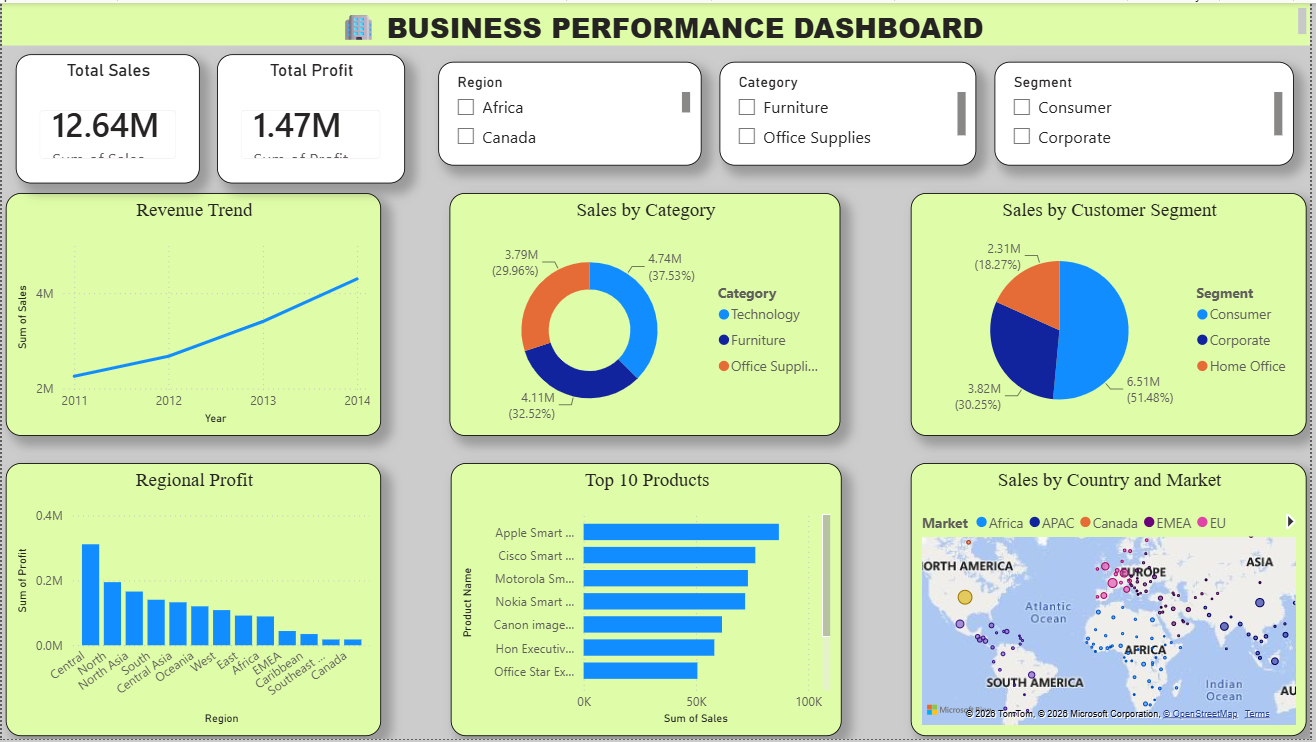

Layout of this report page (visuals, bound fields, positions):
{"tool":"powerbi","page":{"name":"Page 1","canvas":[1280,720],"ordinal":0},"visuals":[{"type":"textbox","box":[0,0,1281.2,41.2],"z":0},{"type":"lineChart","title":"Revenue Trend","fields":{"Category":["Orders.Order Date.Variation.Date Hierarchy.Year","Orders.Order Date.Variation.Date Hierarchy.Quarter","Orders.Order Date.Variation.Date Hierarchy.Month","Orders.Order Date.Variation.Date Hierarchy.Day"],"Y":["Sum(Orders.Sales)"]},"box":[3.8,186.2,367.5,237.5],"z":1000},{"type":"donutChart","title":"Sales by Category","fields":{"Category":["Orders.Category"],"Y":["Sum(Orders.Sales)"]},"box":[437.5,186.2,382.5,237.5],"z":2000},{"type":"clusteredColumnChart","title":"Regional Profit","fields":{"Category":["Orders.Region"],"Y":["Sum(Orders.Profit)"]},"box":[3.8,450,367.5,267.5],"z":3000},{"type":"barChart","title":"Top 10 Products","fields":{"Category":["Orders.Product Name"],"Y":["Sum(Orders.Sales)"]},"box":[438.8,450,382.5,267.5],"z":4000},{"type":"pieChart","title":"Sales by Customer Segment","fields":{"Category":["Orders.Segment"],"Y":["Sum(Orders.Sales)"]},"box":[888.8,186.2,387.5,237.5],"z":5000},{"type":"map","title":"Sales by Country and Market","fields":{"Series":["Orders.Market"],"Category":["Orders.Country"],"Size":["Sum(Orders.Sales)"]},"box":[888.8,450,387.5,267.5],"z":6000},{"type":"slicer","fields":{"Values":["Orders.Region"]},"box":[426.2,57.5,257.5,101.2],"z":7000},{"type":"slicer","fields":{"Values":["Orders.Category"]},"box":[702.5,57.5,251.2,101.2],"z":8000},{"type":"slicer","fields":{"Values":["Orders.Segment"]},"box":[971.2,57.5,292.5,101.2],"z":9000},{"type":"cardVisual","title":"Total Sales","fields":{"Data":["Sum(Orders.Sales)"]},"box":[13.8,50,180,126.2],"z":10000},{"type":"cardVisual","title":"Total Profit","fields":{"Data":["Sum(Orders.Profit)"]},"box":[210,50,183.8,126.2],"z":11000}]}

Visuals, with their boxes in screenshot pixels (x1, y1, x2, y2), scaled from the page's 1280x720 canvas onto the 1316x742 screenshot:
textbox: detection(0, 0, 1315, 42)
"Revenue Trend" lineChart: detection(4, 192, 382, 437)
"Sales by Category" donutChart: detection(450, 192, 843, 437)
"Regional Profit" clusteredColumnChart: detection(4, 464, 382, 739)
"Top 10 Products" barChart: detection(451, 464, 844, 739)
"Sales by Customer Segment" pieChart: detection(914, 192, 1312, 437)
"Sales by Country and Market" map: detection(914, 464, 1312, 739)
slicer - Orders.Region: detection(438, 59, 703, 164)
slicer - Orders.Category: detection(722, 59, 981, 164)
slicer - Orders.Segment: detection(999, 59, 1299, 164)
"Total Sales" cardVisual: detection(14, 52, 199, 182)
"Total Profit" cardVisual: detection(216, 52, 405, 182)
